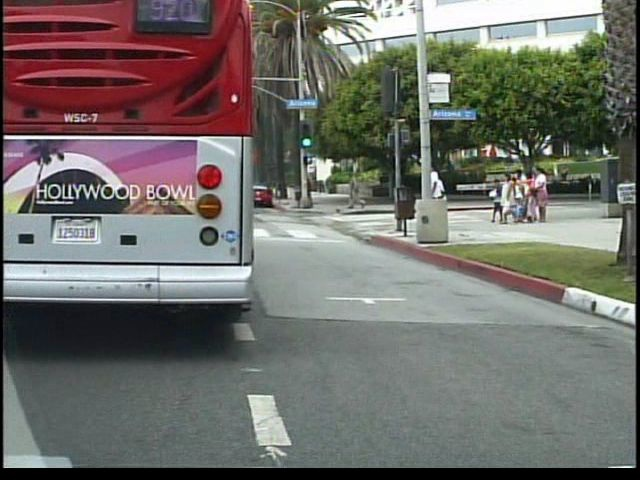person: (420, 161, 453, 238), (428, 169, 451, 233), (349, 169, 369, 211)
